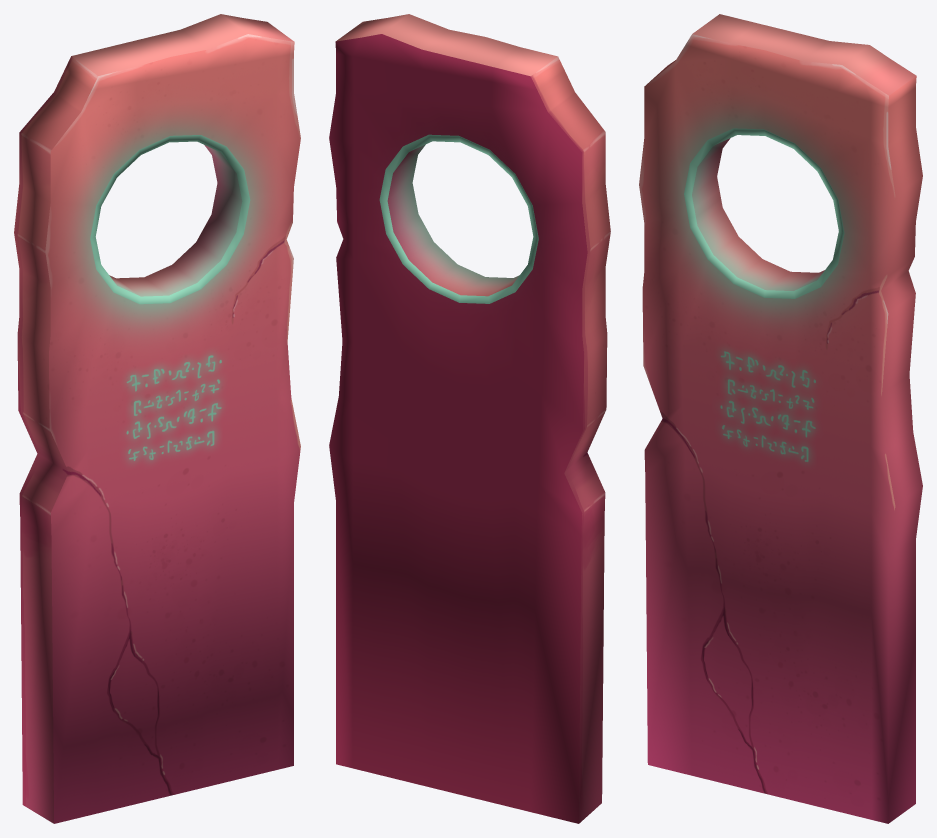
The model's file is alien_structure.fbx.
3 views of the same model, side by side, from view 1: azimuth 30°, elevation 25°; view 2: azimuth 150°, elevation 25°; view 3: azimuth 330°, elevation 25° (orthographic).
Parts seen in each view (by area): view 1: Cube.001; view 2: Cube.001; view 3: Cube.001.
Boxes of the visible parts, bbox=[...] form: Cube.001: bbox=[14, 14, 300, 823]; Cube.001: bbox=[329, 14, 610, 823]; Cube.001: bbox=[639, 14, 922, 823].
Bounding box in the file's own units: 159 × 435 × 29.37.
